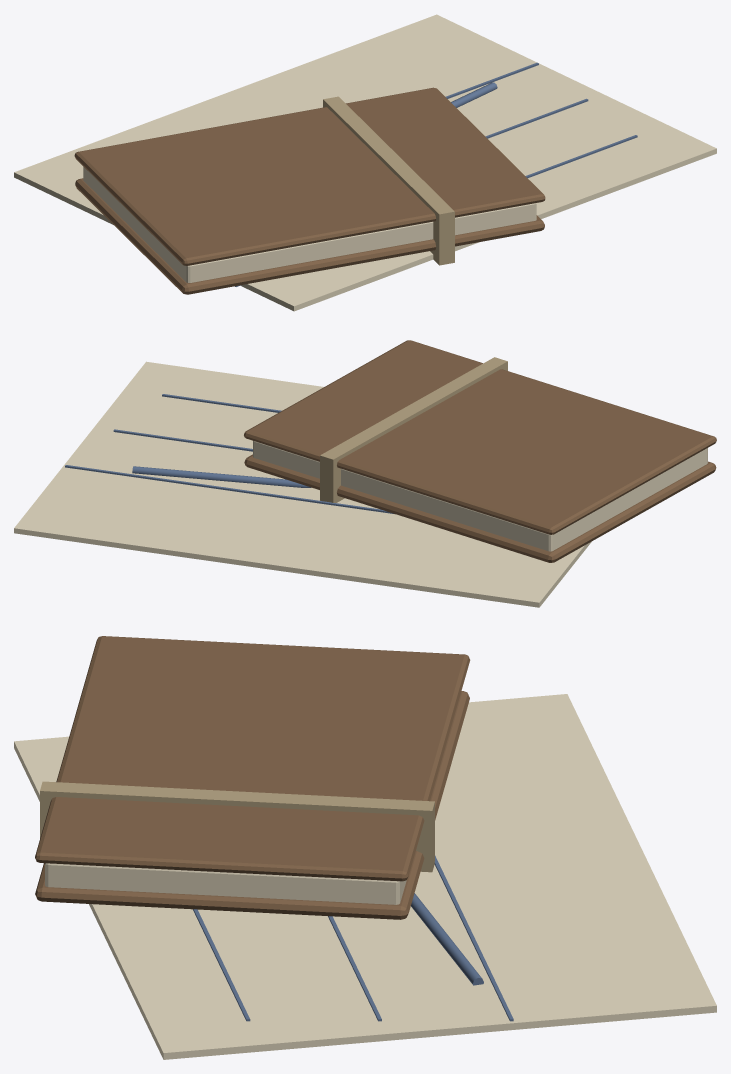
The model's file is Item_river_documents.fbx.
3 renders of one model, top to bottom at view 1: azimuth 30°, elevation 25°; view 2: azimuth 150°, elevation 25°; view 3: azimuth 270°, elevation 25°, orthographic. The views are drawn at different scales.
Visible parts, largest first — view 1: model.012; view 2: model.012; view 3: model.012.
Part boxes in pixels (x1,y1,x2,y2): model.012: [14, 14, 716, 311]; model.012: [14, 340, 716, 607]; model.012: [14, 636, 716, 1059].
Bounding box in the file's own units: 0.2282 × 0.02 × 0.1867.
